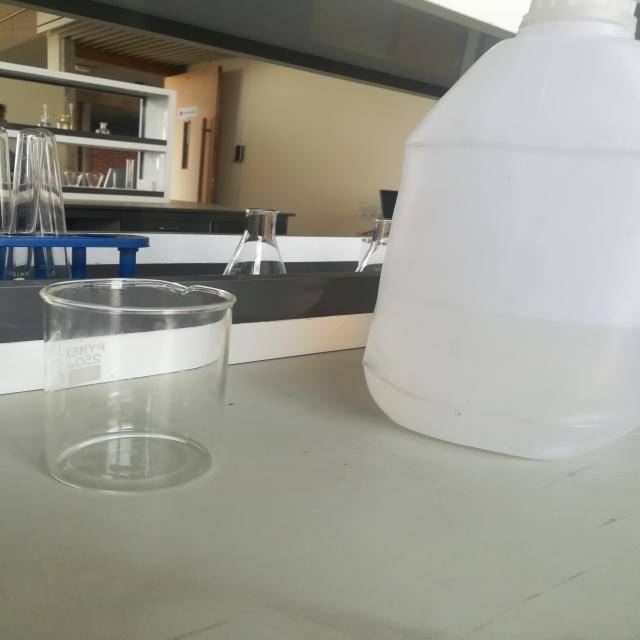Beaker: (16, 238, 256, 520)
